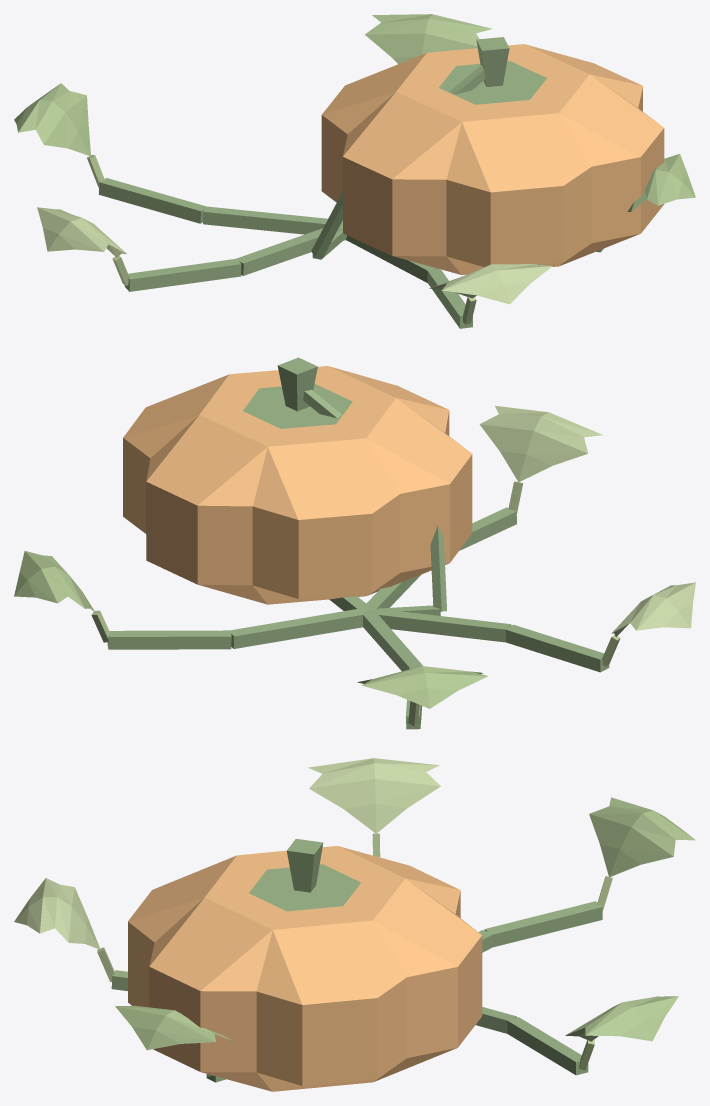
File: crafted-crop-pumpkin-3.glb
3 views of the same model, one above another, from view 1: azimuth 30°, elevation 25°; view 2: azimuth 150°, elevation 25°; view 3: azimuth 270°, elevation 25° (orthographic). The views are drawn at different scales.
Visible parts, largest first — view 1: fruit-skin, vine-leaf-2, fruit-stem, vine-leaf-4, vine-leaf-3, vine-leaf-1, vine-0-4, vine-1-1, vine-1-4, vine-leaf, vine-0-1, vine-1-3 (+2 smaller); view 2: fruit-skin, vine-leaf-3, fruit-stem, vine-leaf-4, vine-0-2, vine-leaf-2, vine-leaf-1, vine-0-1, vine-1-2, vine-1-1, vine-0-4, fruit-attachment-1 (+2 smaller); view 3: fruit-skin, vine-leaf-1, vine-leaf-4, fruit-stem, vine-leaf-3, vine-leaf-2, vine-leaf, vine-1-4, vine-1-2, vine-0-2.
Part boxes in pixels (x1,y1,x2,y2): fruit-skin: [321, 44, 664, 274]; vine-leaf-2: [365, 14, 491, 64]; fruit-stem: [439, 37, 546, 104]; vine-leaf-4: [14, 83, 90, 156]; vine-leaf-3: [429, 264, 552, 304]; vine-leaf-1: [37, 207, 126, 257]; vine-0-4: [203, 206, 342, 234]; vine-1-1: [124, 258, 241, 291]; vine-1-4: [99, 178, 205, 223]; vine-leaf: [627, 154, 695, 211]; vine-0-1: [235, 225, 345, 275]; vine-1-3: [427, 268, 472, 328]; fruit-skin: [123, 366, 472, 604]; vine-leaf-3: [479, 405, 602, 482]; fruit-stem: [243, 357, 352, 428]; vine-leaf-4: [357, 666, 487, 708]; vine-0-2: [229, 607, 366, 648]; vine-leaf-2: [14, 551, 95, 612]; vine-leaf-1: [611, 582, 695, 636]; vine-0-1: [374, 608, 511, 642]; vine-1-2: [107, 630, 231, 649]; vine-1-1: [505, 624, 609, 672]; vine-0-4: [363, 609, 422, 671]; fruit-attachment-1: [430, 525, 446, 611]; fruit-skin: [128, 846, 482, 1091]; vine-leaf-1: [308, 758, 440, 833]; vine-leaf-4: [589, 797, 695, 877]; fruit-stem: [249, 839, 360, 911]; vine-leaf-3: [14, 878, 100, 949]; vine-leaf-2: [565, 996, 678, 1041]; vine-leaf: [115, 1005, 234, 1050]; vine-1-4: [484, 901, 602, 947]; vine-1-2: [507, 1017, 588, 1075]; vine-0-2: [476, 1007, 516, 1033].
Bounding box in the file's own units: 0.9487 × 0.3143 × 0.943.
